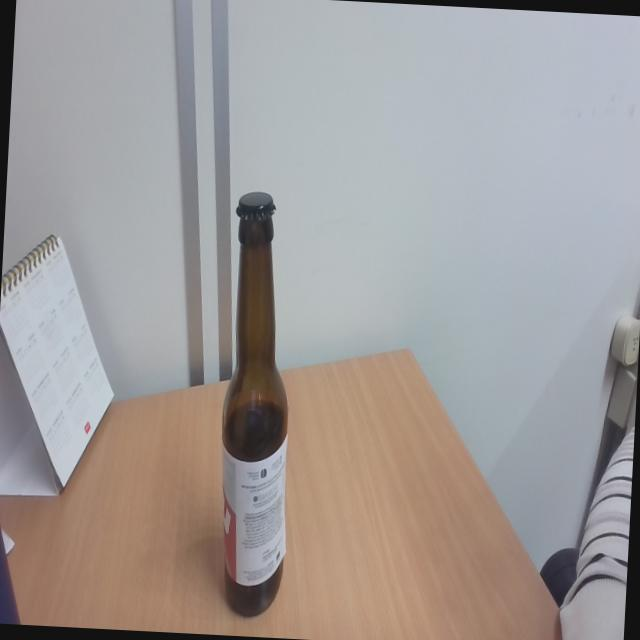Bottle: (211, 189, 303, 620)
Cap: (234, 187, 280, 227)
Label: (217, 450, 290, 590)
